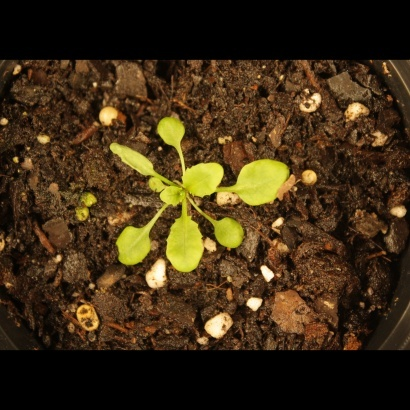leaf: (230, 156, 302, 221), (162, 207, 206, 278), (203, 207, 255, 258), (111, 220, 155, 272), (106, 141, 160, 180), (179, 158, 229, 197), (151, 113, 189, 149), (159, 182, 185, 205), (141, 171, 164, 194)
